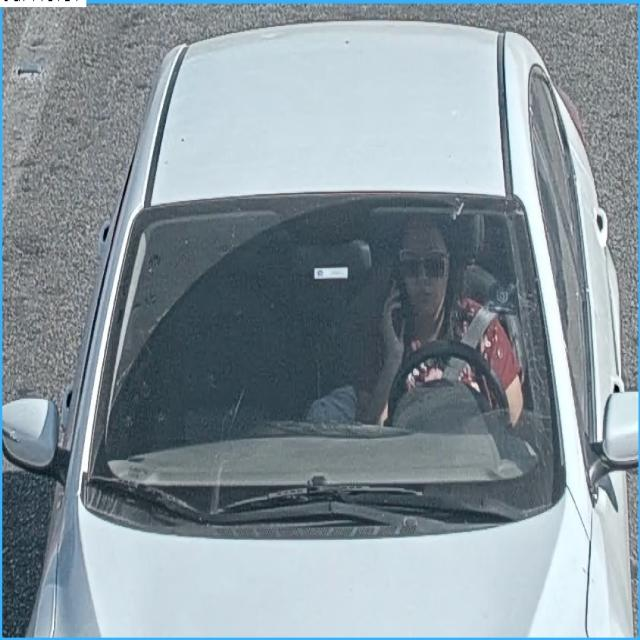windshield: (101, 212, 551, 504)
